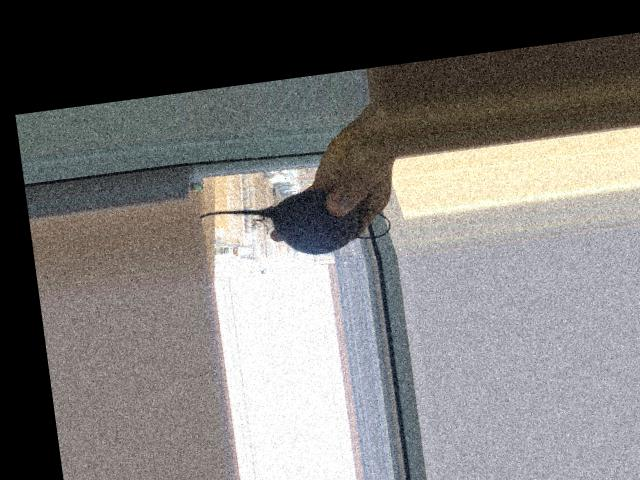beet: (197, 180, 392, 269)
